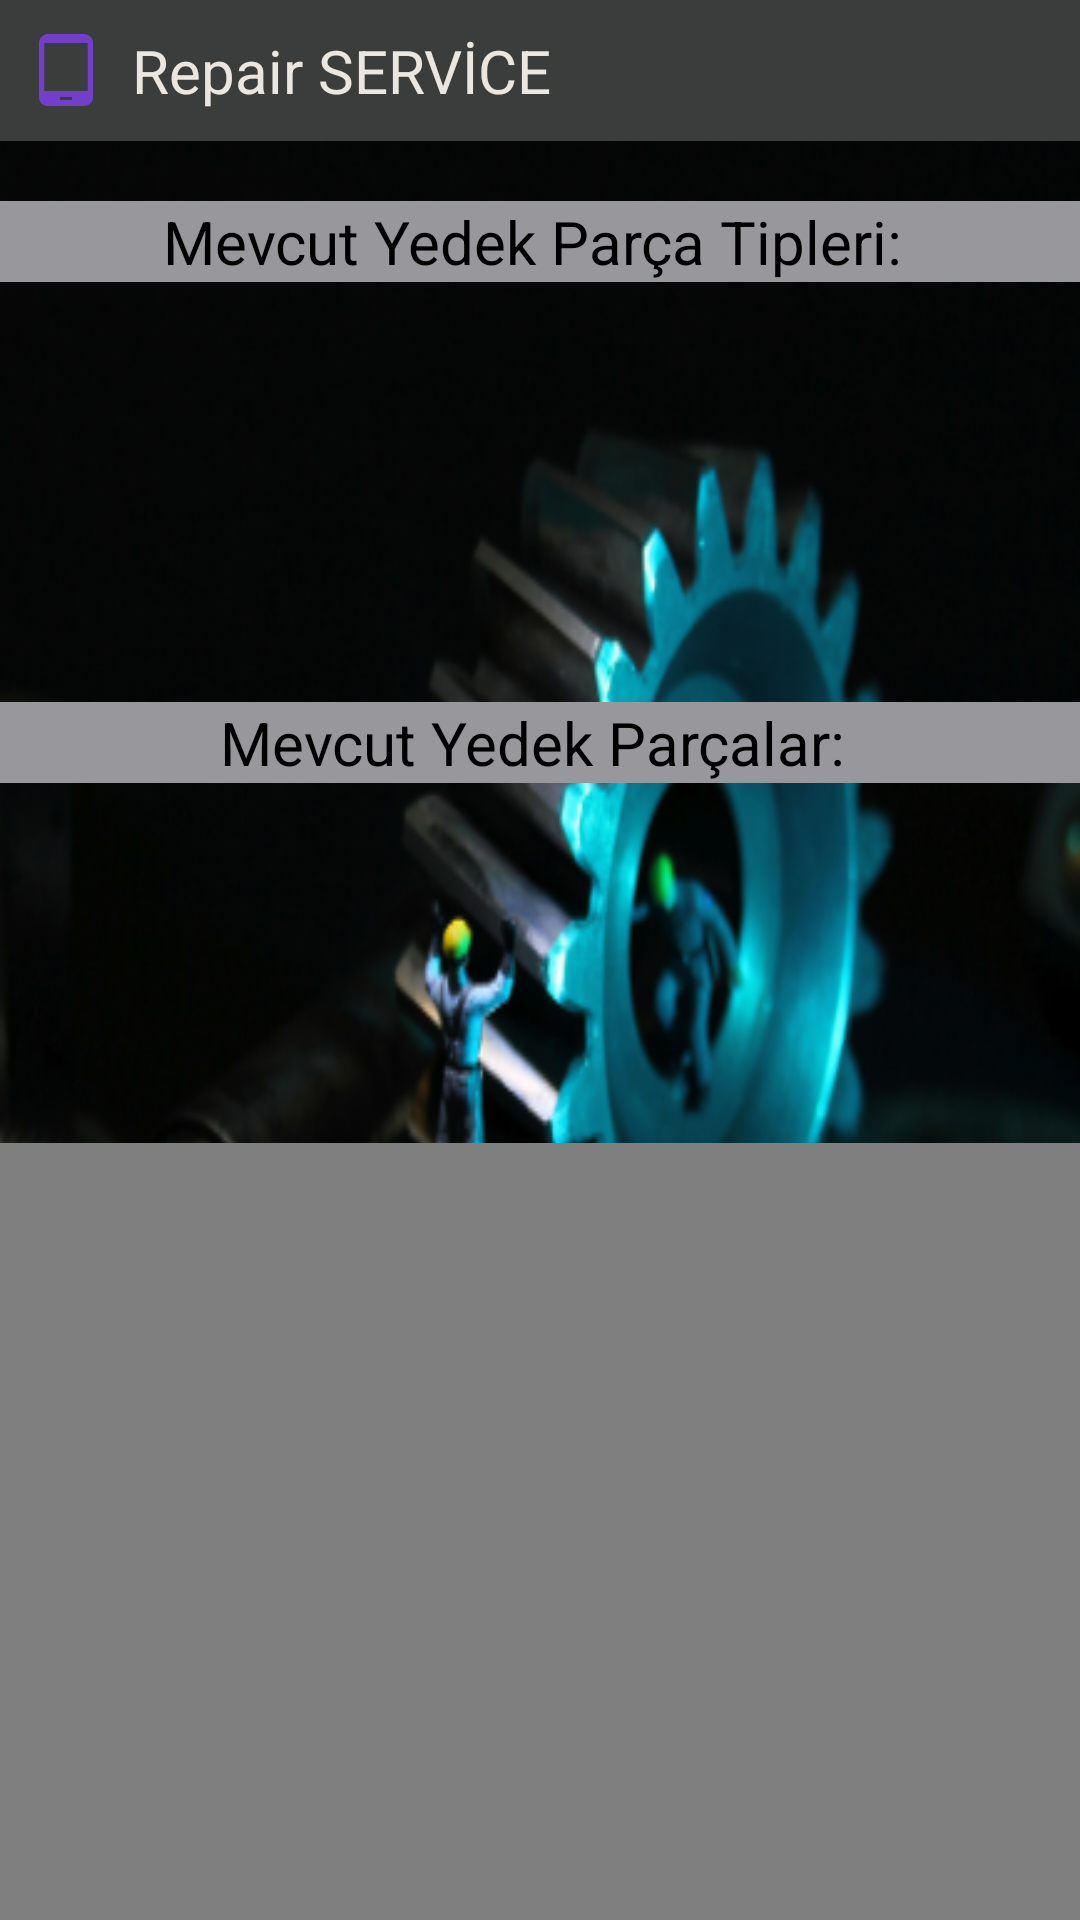

Icons on this 1080x1920 Android screen, each with its box as (x1, y1, x2, y2):
tablet android: (39, 34, 93, 106)
